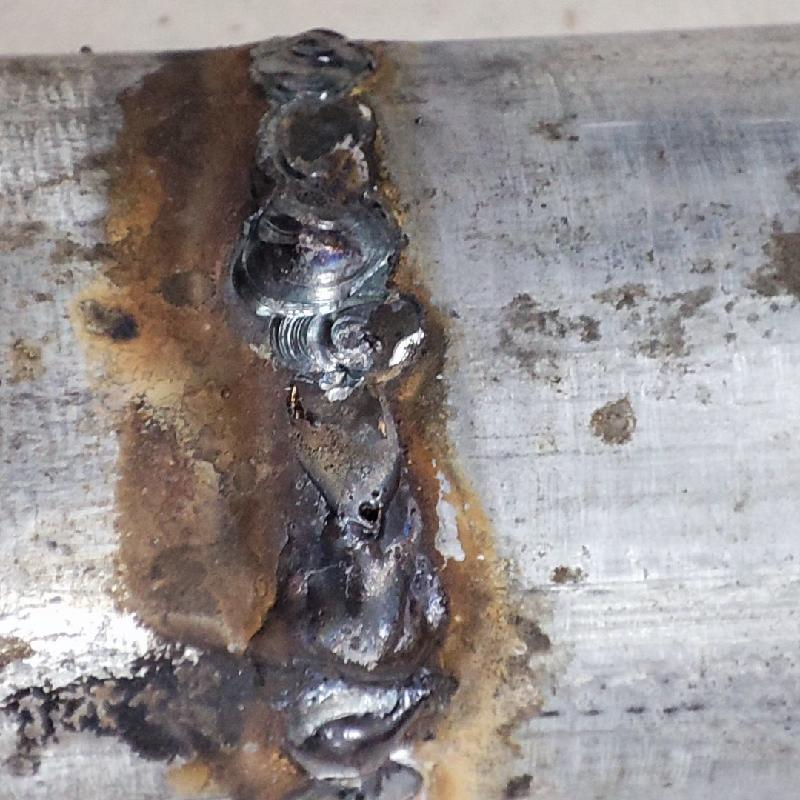Not_fully_soldered: (259, 312, 407, 535)
Surface_pores: (338, 485, 393, 535)
wrong_size: (223, 25, 387, 309)
